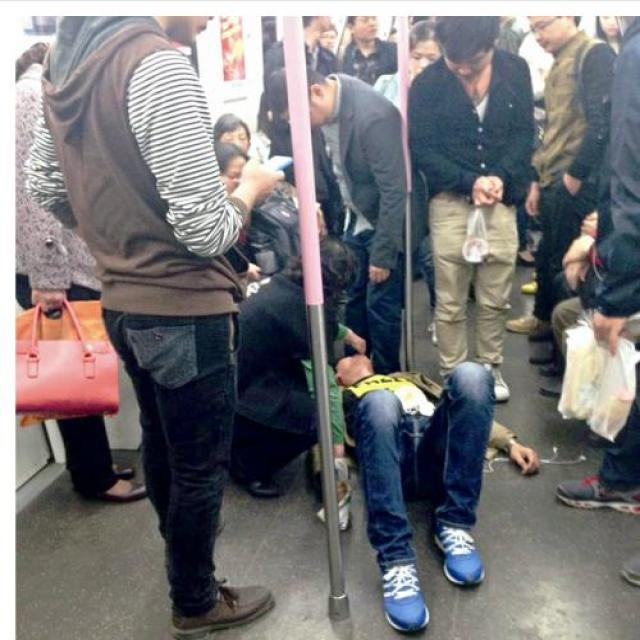10-: (23, 20, 625, 549)
down: (306, 314, 497, 639)
